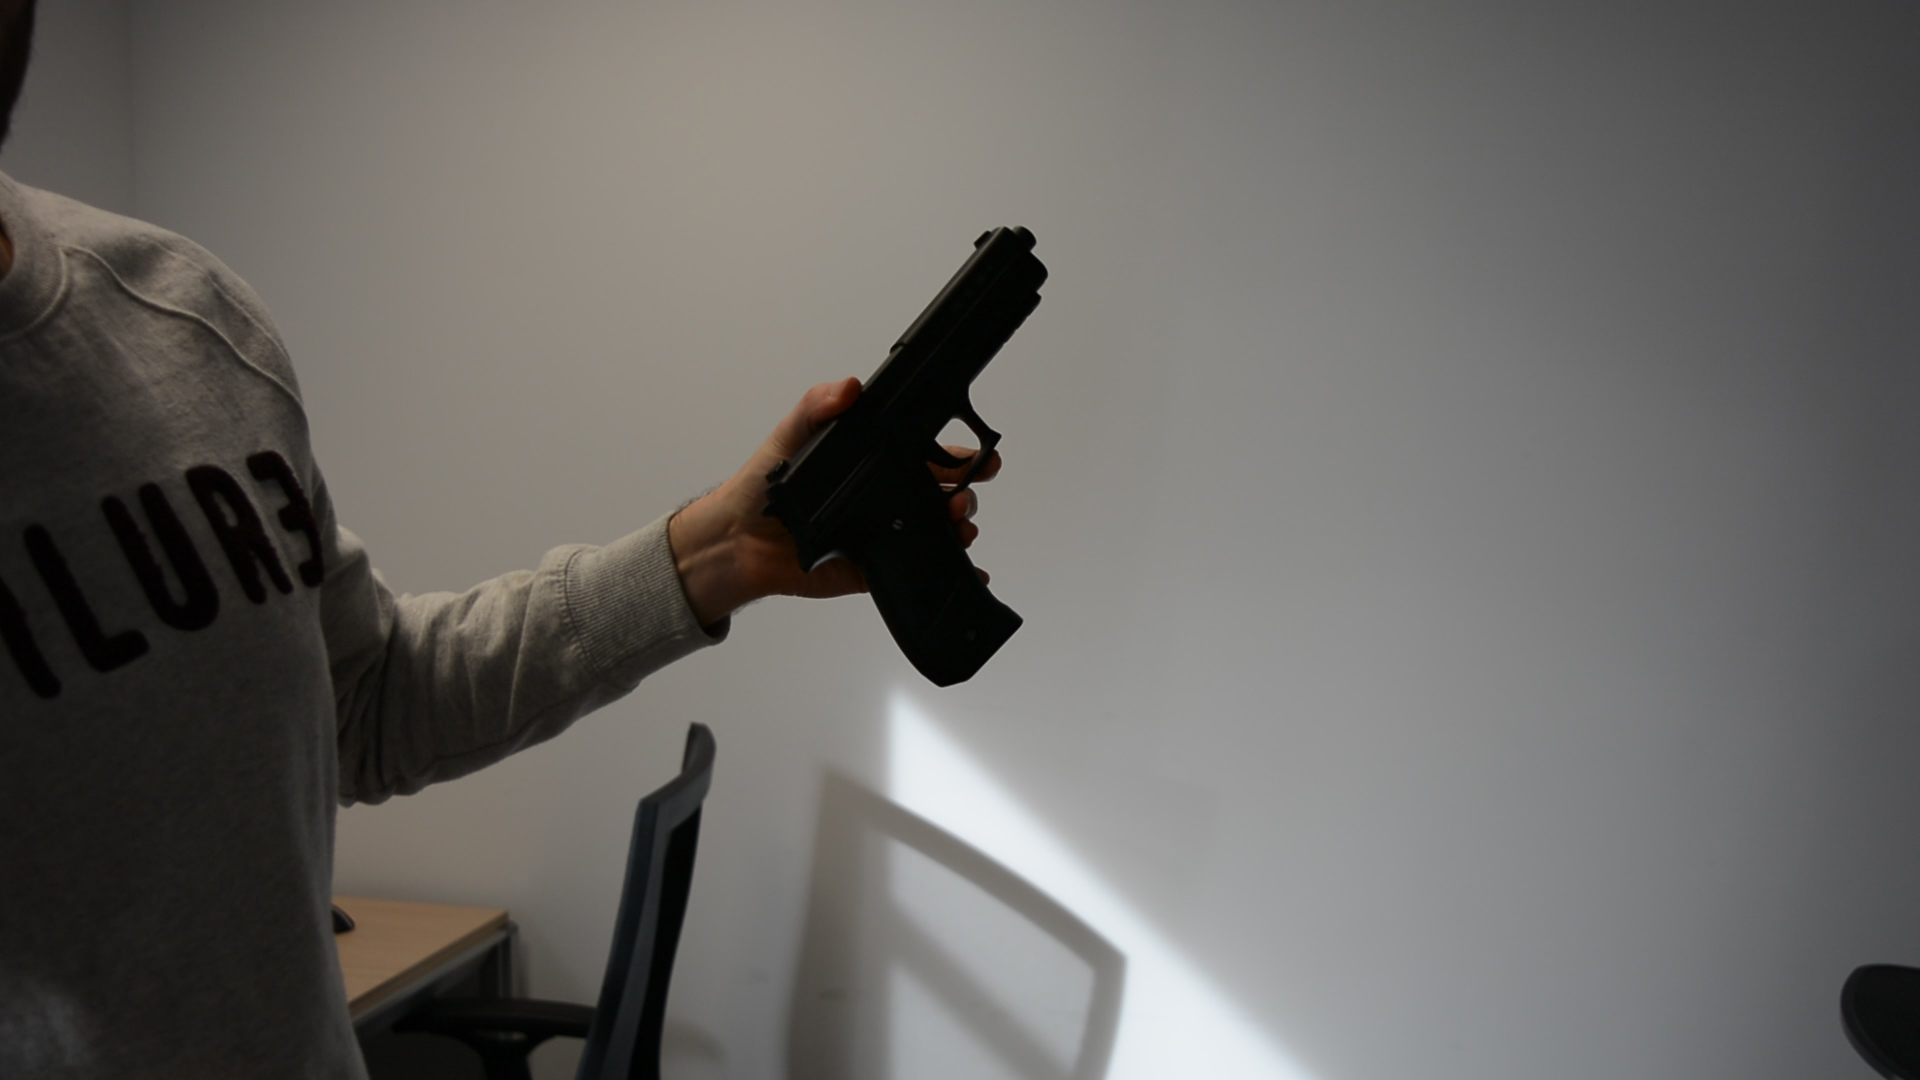pistol: (760, 222, 1050, 690)
